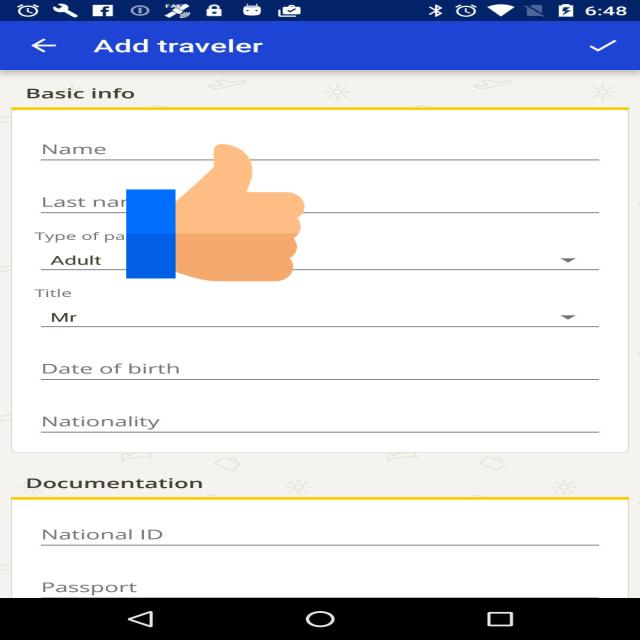privacy zuckering: (126, 140, 305, 284)
